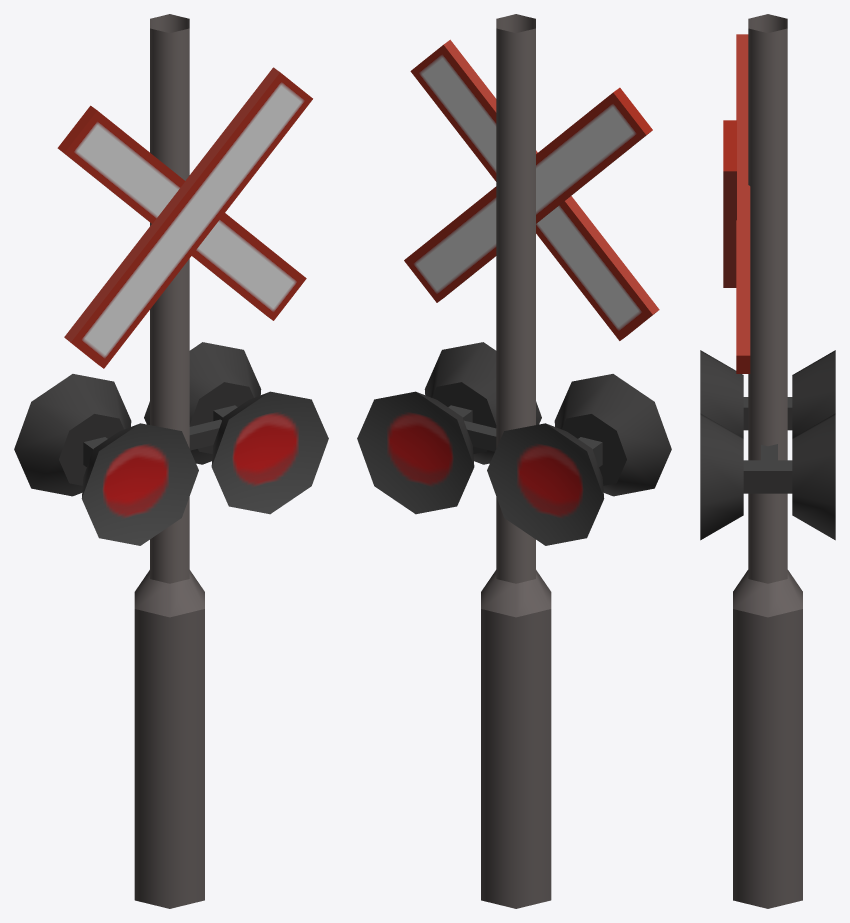
File: Railroad_Crossing_01.fbx
The picture shows the model from 3 angles, left to right: view 1: azimuth 30°, elevation 25°; view 2: azimuth 150°, elevation 25°; view 3: azimuth 270°, elevation 25°; orthographic projection.
Parts seen in each view (by area): view 1: Railroad_Crossing_01; view 2: Railroad_Crossing_01; view 3: Railroad_Crossing_01.
Boxes of the visible parts, <box> form: Railroad_Crossing_01: <box>14,14,328,908</box>; Railroad_Crossing_01: <box>357,14,671,908</box>; Railroad_Crossing_01: <box>700,14,835,908</box>.
Size of the model in its own units: 132 by 442 by 62.46.
Materials: 1 (1 with a texture image).
